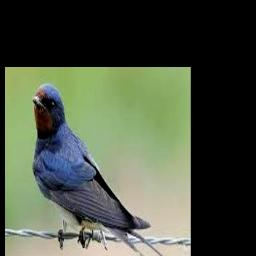Swallow: (32, 83, 178, 256)
